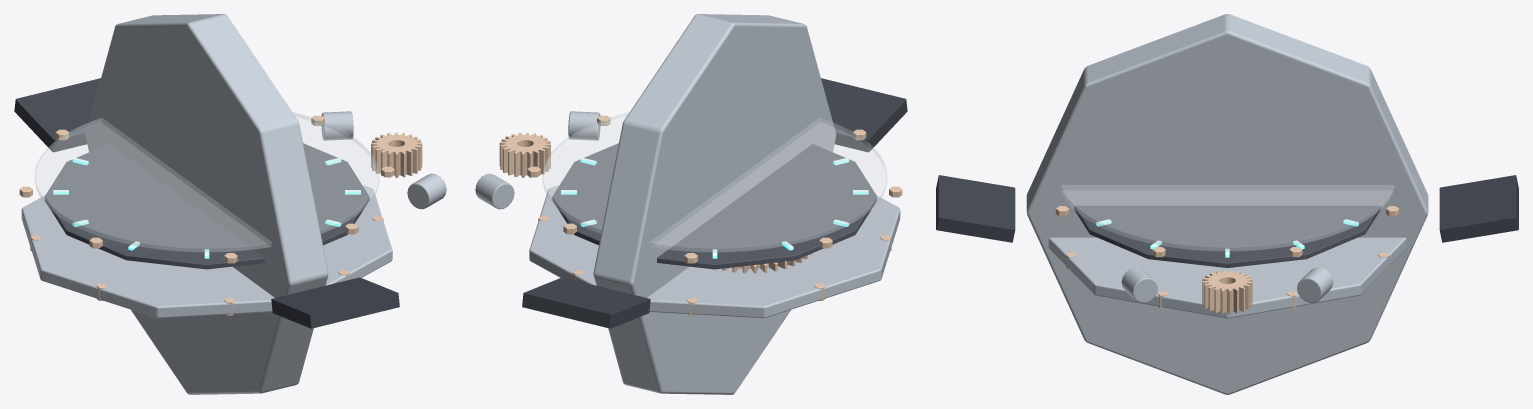
Rendered from chrono_tourbillon.glb.
3 views of the same model, side by side, from view 1: azimuth 30°, elevation 25°; view 2: azimuth 150°, elevation 25°; view 3: azimuth 270°, elevation 25° (orthographic). The views are drawn at different scales.
Visible parts, largest first — view 1: Watch_Case_Main, Sapphire_Crystal_Front, Bridge_Main, Caseback_Octagon_Ring, Strap_Bottom, Strap_Top, Crown_Winder, Pusher_Reset, Pusher_Start; view 2: Watch_Case_Main, Sapphire_Crystal_Front, Bridge_Main, Caseback_Octagon_Ring, Strap_Top, Strap_Bottom, Crown_Winder, Pusher_Start, Pusher_Reset, Gear_Barrel; view 3: Watch_Case_Main, Sapphire_Crystal_Front, Bridge_Main, Caseback_Octagon_Ring, Strap_Bottom, Strap_Top, Crown_Winder, Pusher_Reset, Pusher_Start.
Boxes of the visible parts, bbox=[...] form: Watch_Case_Main: bbox=[85, 14, 328, 394]; Sapphire_Crystal_Front: bbox=[35, 112, 378, 251]; Bridge_Main: bbox=[44, 143, 369, 269]; Caseback_Octagon_Ring: bbox=[21, 185, 392, 318]; Strap_Bottom: bbox=[271, 277, 399, 328]; Strap_Top: bbox=[14, 78, 100, 152]; Crown_Winder: bbox=[371, 132, 422, 177]; Pusher_Reset: bbox=[407, 173, 446, 209]; Pusher_Start: bbox=[321, 111, 353, 140]; Watch_Case_Main: bbox=[593, 14, 836, 394]; Sapphire_Crystal_Front: bbox=[543, 112, 886, 251]; Bridge_Main: bbox=[552, 143, 877, 269]; Caseback_Octagon_Ring: bbox=[529, 185, 900, 318]; Strap_Top: bbox=[522, 277, 650, 328]; Strap_Bottom: bbox=[821, 78, 907, 152]; Crown_Winder: bbox=[499, 132, 550, 177]; Pusher_Start: bbox=[475, 173, 514, 209]; Pusher_Reset: bbox=[568, 111, 600, 140]; Gear_Barrel: bbox=[722, 253, 811, 273]; Watch_Case_Main: bbox=[1026, 14, 1428, 394]; Sapphire_Crystal_Front: bbox=[1061, 185, 1393, 251]; Bridge_Main: bbox=[1074, 205, 1380, 267]; Caseback_Octagon_Ring: bbox=[1048, 237, 1406, 318]; Strap_Bottom: bbox=[936, 175, 1015, 242]; Strap_Top: bbox=[1439, 175, 1518, 242]; Crown_Winder: bbox=[1202, 270, 1252, 314]; Pusher_Reset: bbox=[1121, 267, 1157, 302]; Pusher_Start: bbox=[1297, 267, 1333, 302].
Size of the model in its own units: 2.63 by 2.47 by 3.59.
